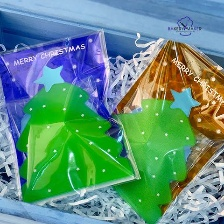snack: (0, 23, 146, 205), (85, 32, 223, 224)
